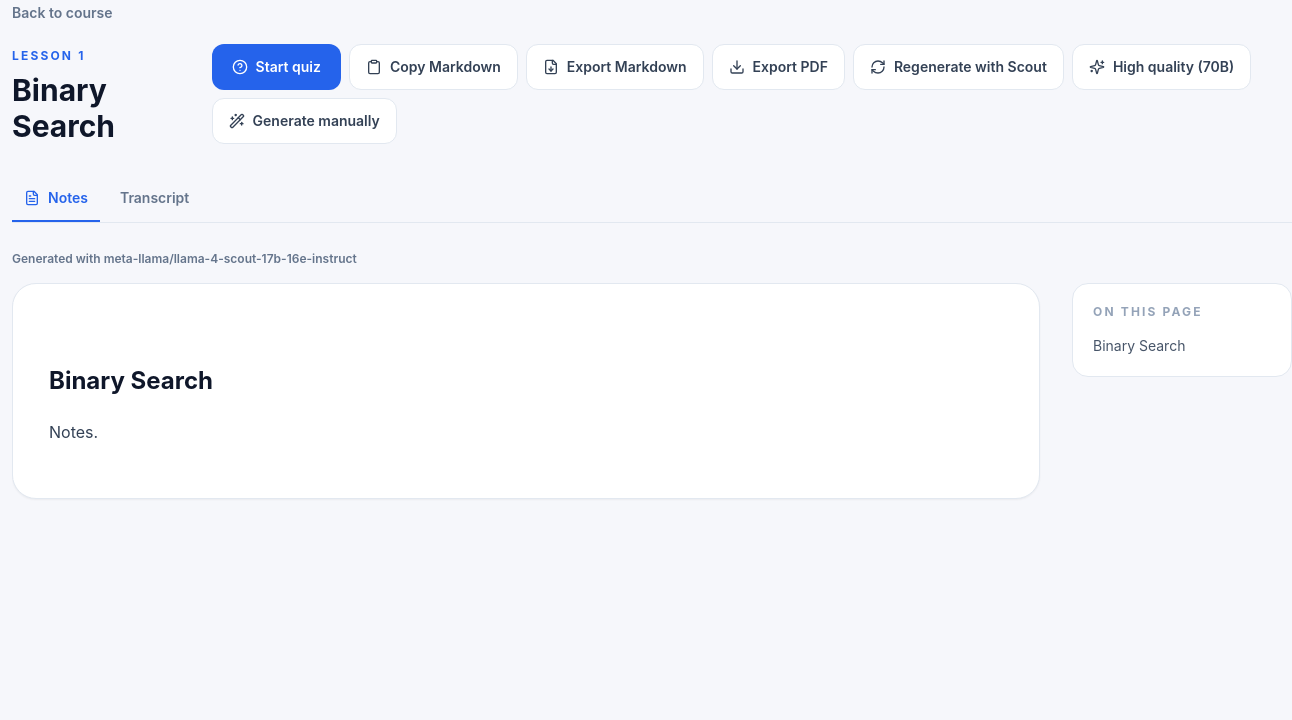
Test case: Phase 8 frontend › high-quality regeneration explicitly requests the 70B profile
What coordinates should you click on to do the following:
click the button "High quality (70B)"
I would click on:
 (1162, 67)
Its box is [1072,44,1251,90].
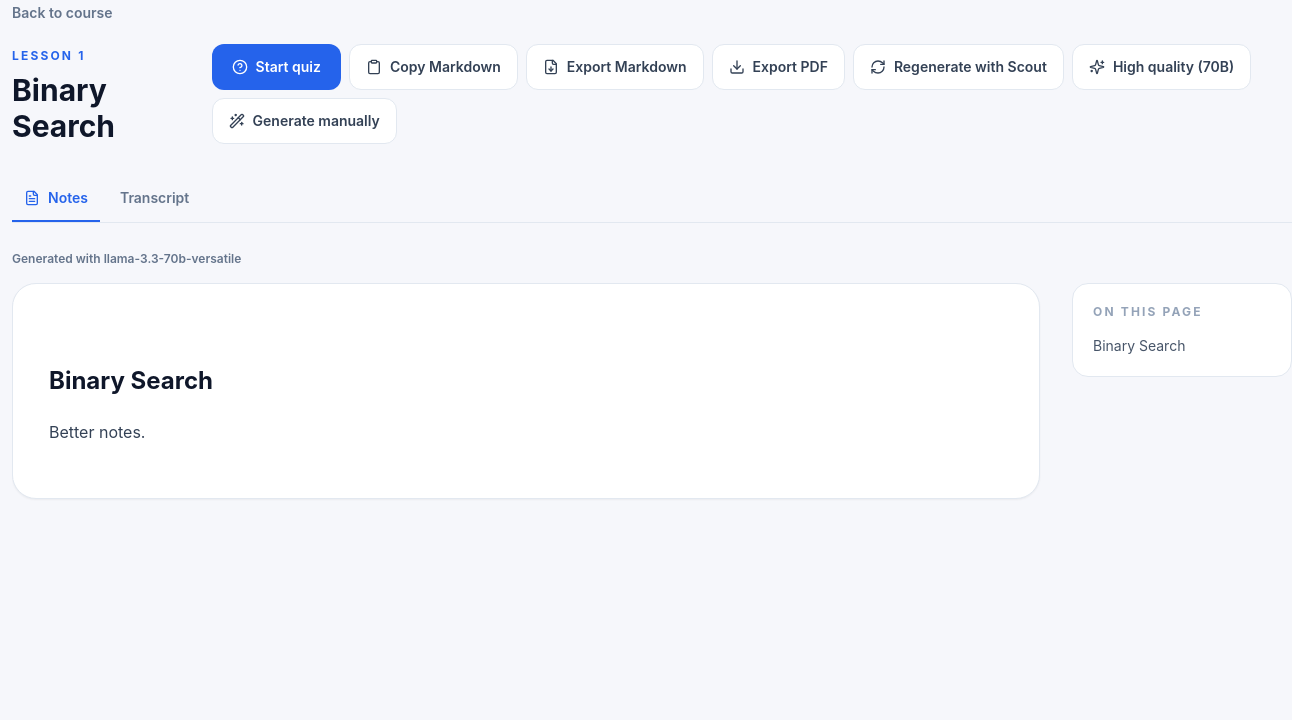
Now the text "Generated with llama-3.3-70b-versatile" is shown, box [12,251,241,266]
